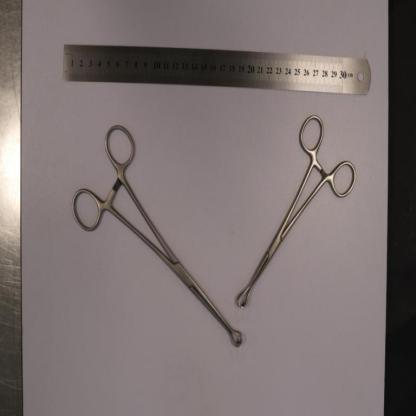8 Babcock Tissue Forceps: (73, 124, 243, 346)
Babcock Tissue Forceps: (238, 118, 355, 310)
